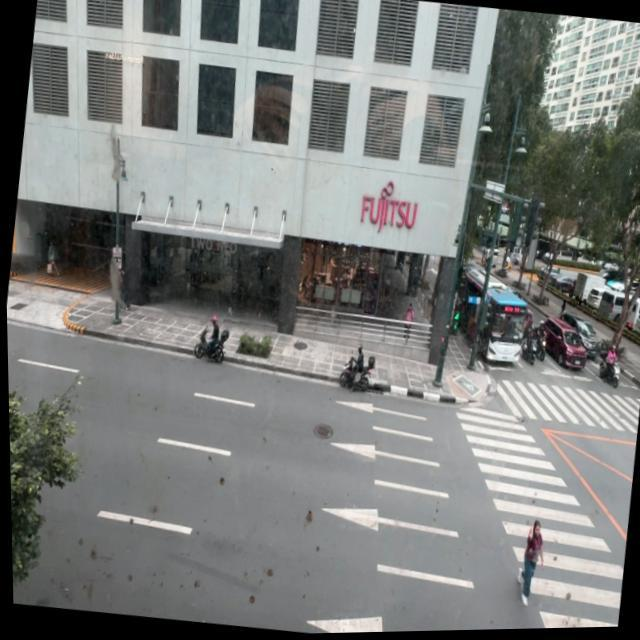jaywalking: (512, 516, 548, 608)
